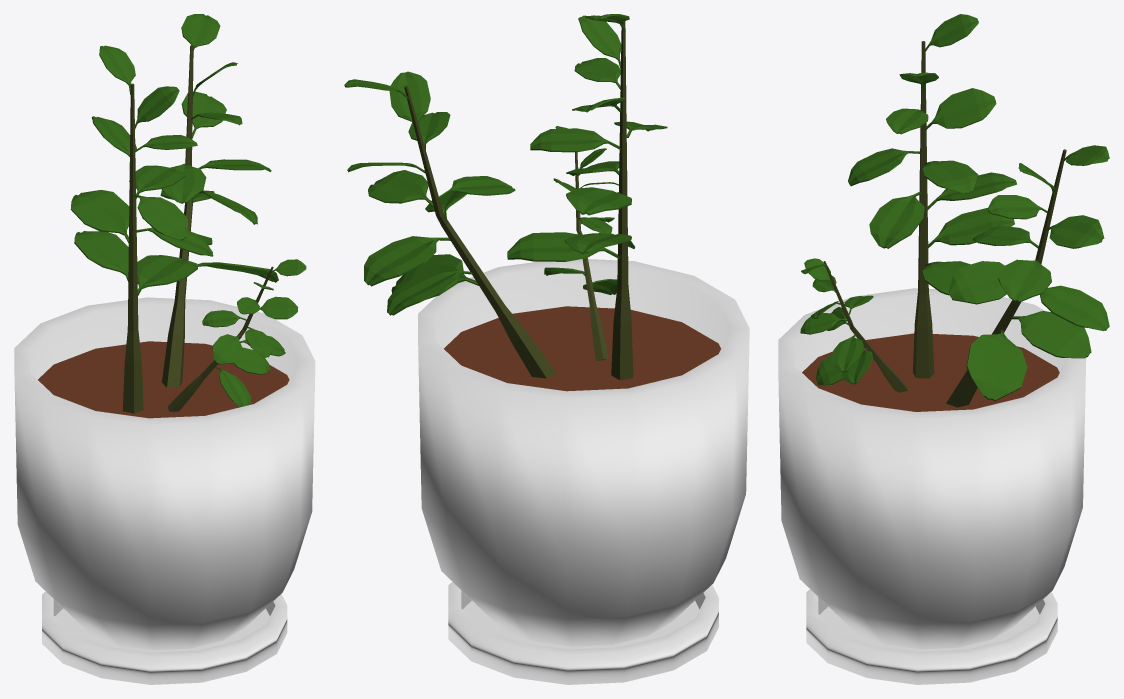
The model's file is Pot Plant3.fbx.
3 renders of one model, left to right at view 1: azimuth 30°, elevation 25°; view 2: azimuth 150°, elevation 25°; view 3: azimuth 270°, elevation 25°, orthographic. The views are drawn at different scales.
Visible parts, largest first — view 1: plant plate, Plant stem3; view 2: plant plate, Plant stem3; view 3: plant plate, Plant stem3.
Part boxes in pixels (bbox=[...]): plant plate: bbox=[14, 297, 315, 684]; Plant stem3: bbox=[70, 14, 306, 413]; plant plate: bbox=[418, 259, 749, 684]; Plant stem3: bbox=[344, 14, 667, 380]; plant plate: bbox=[778, 288, 1086, 684]; Plant stem3: bbox=[800, 14, 1109, 407].
Bounding box in the file's own units: 43.17 × 85.35 × 43.16.
